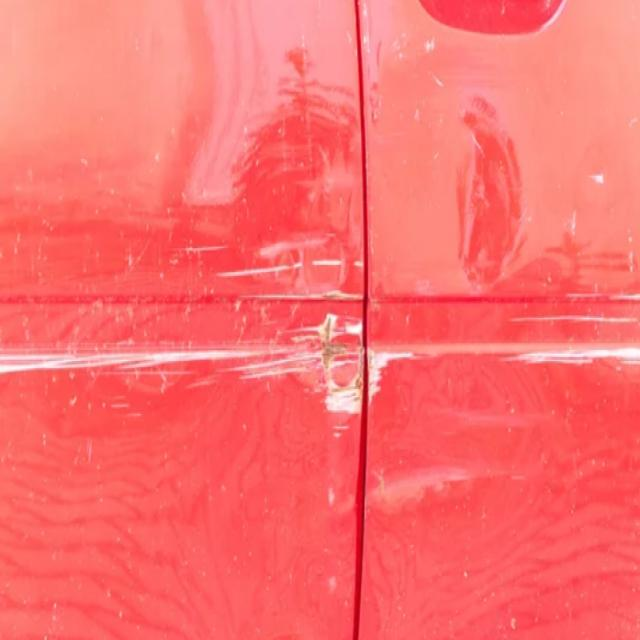dents: (302, 296, 401, 458)
